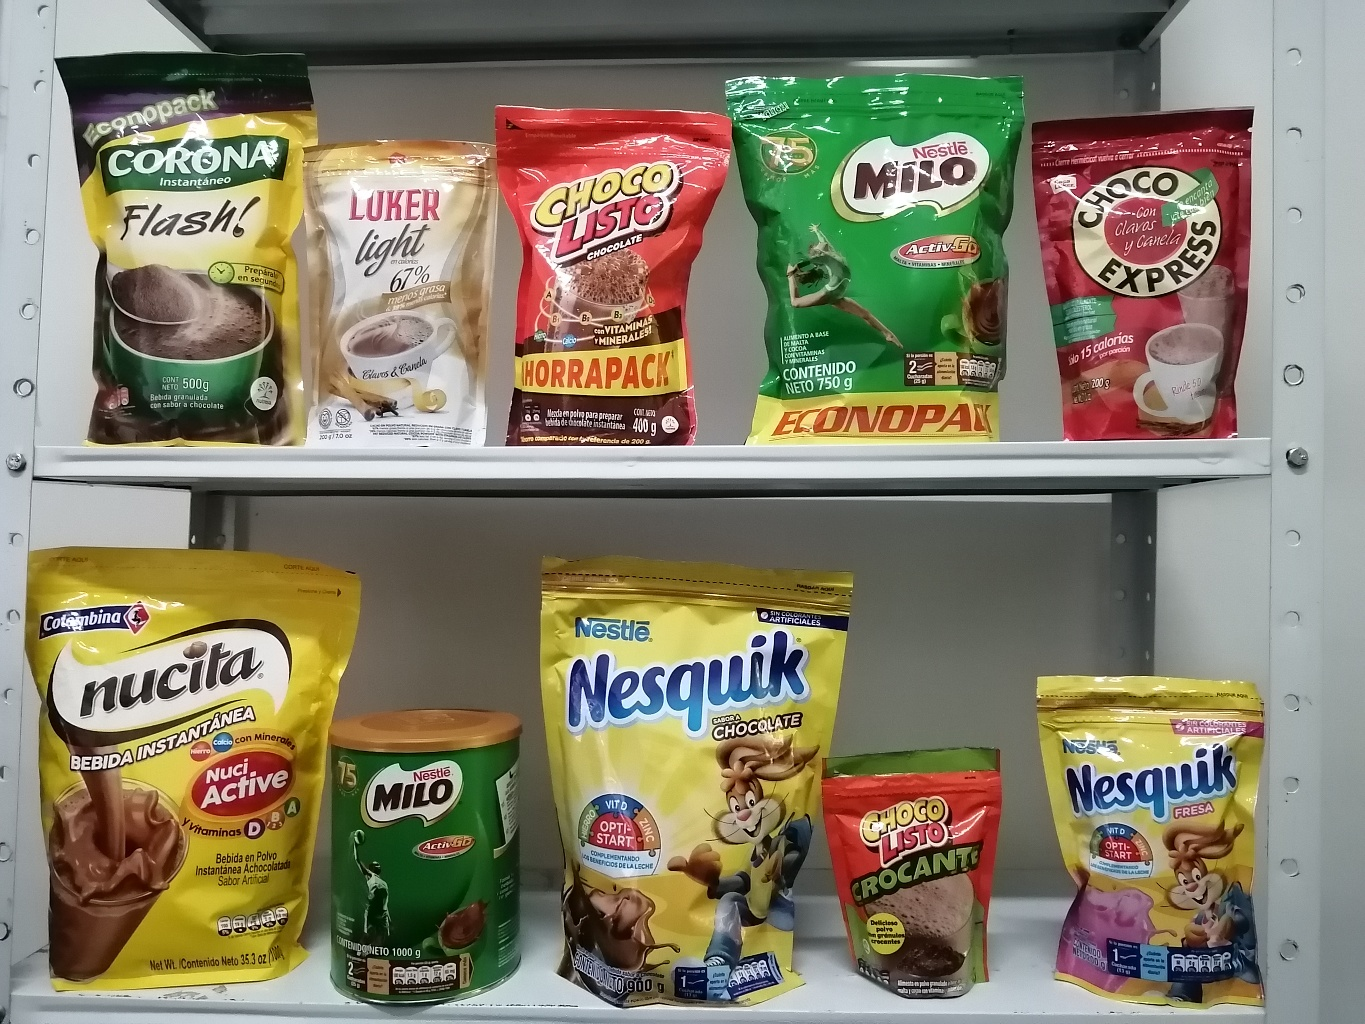COL0170102DYP10000: (816, 749, 1011, 989)
COL0170103DYP40000: (499, 90, 715, 447)
COL0170305DYP20000: (1027, 666, 1268, 1013)
